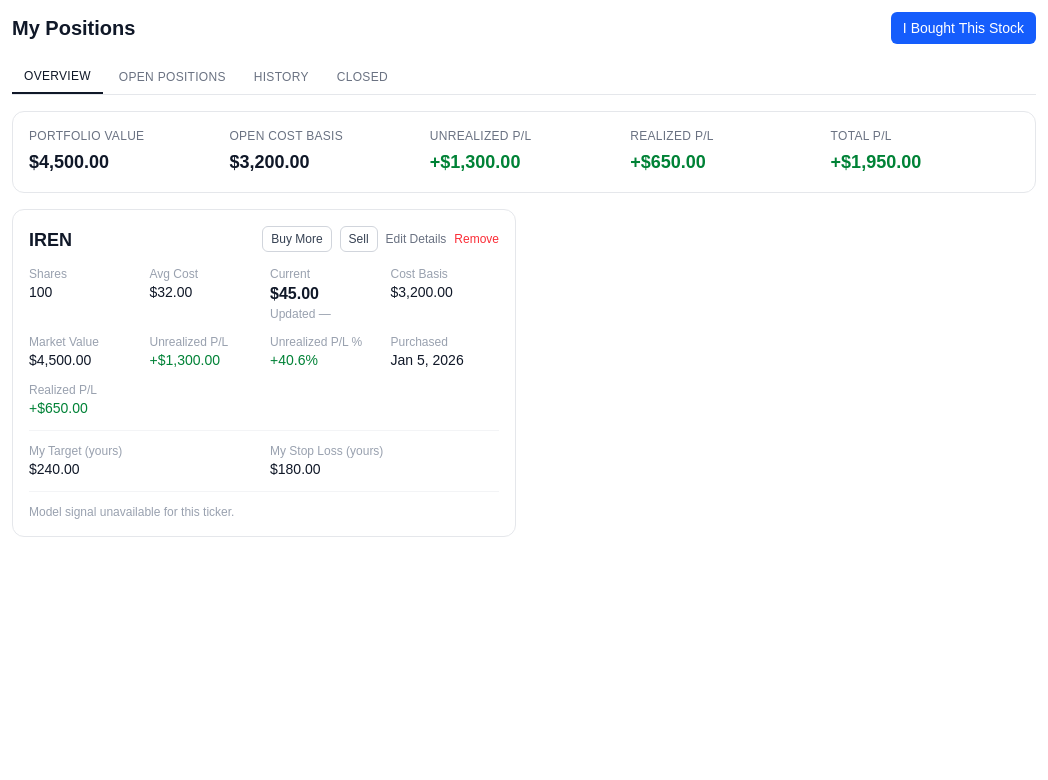
Test: PositionsPage › shows closed cycles on the CLOSED tab
Check: the element with test id "position-card-IREN" is shown, box [12,209,516,537]
Click the tab "CLOSED" at (362, 77), box [325,60,400,94]
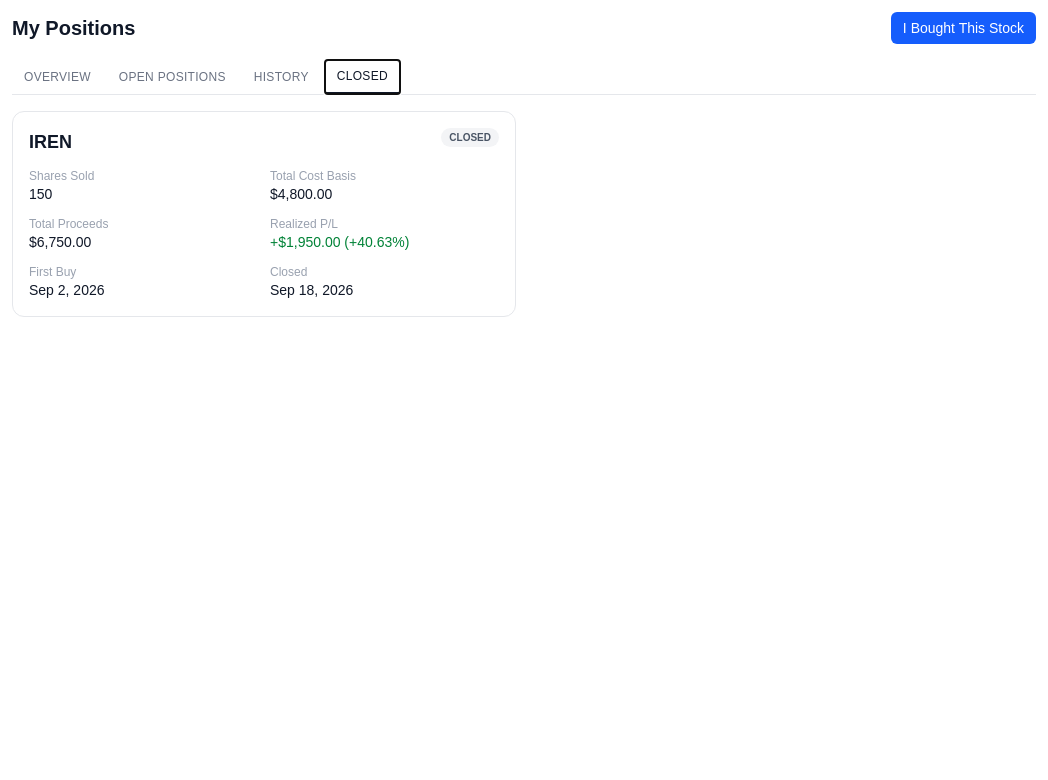
Check: the element with test id "closed-position-IREN" shows "+$1,950.00 (+40.63%)", box [270,234,409,250]
